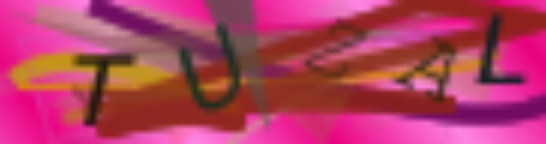A: (392, 36, 460, 102)
L: (473, 5, 533, 88)
T: (69, 49, 142, 130)
U: (175, 19, 250, 113)
Z: (301, 13, 371, 83)
